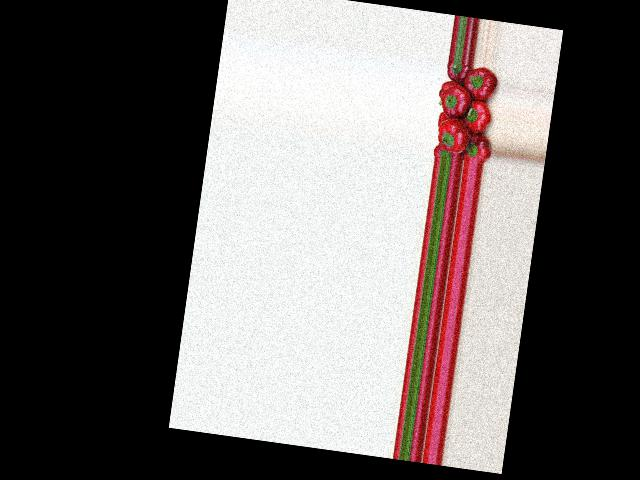bell_pepper: (436, 111, 451, 126)
